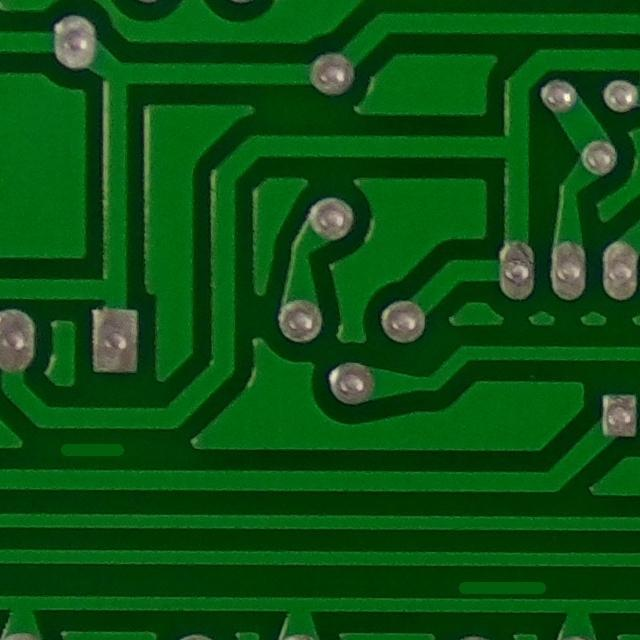spurious_copper: (444, 566, 555, 608), (51, 428, 137, 477)
